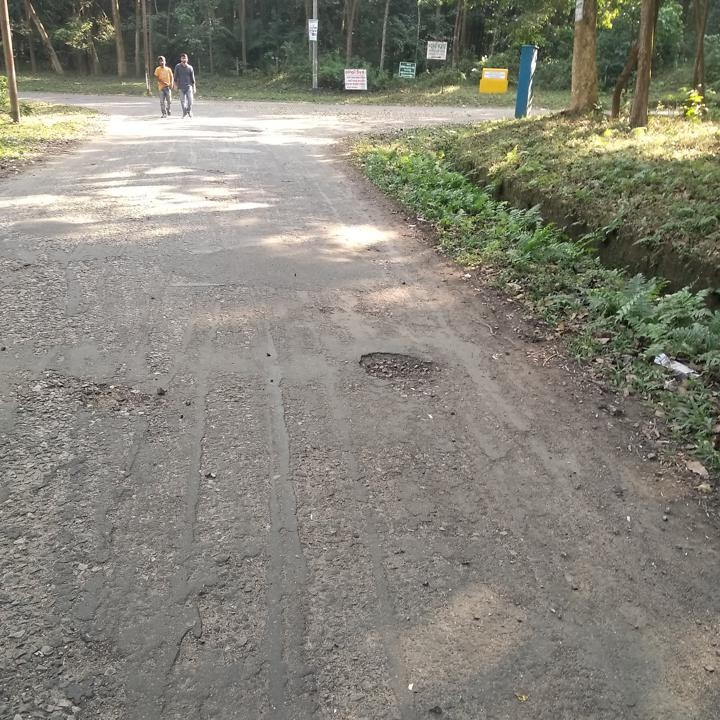pothole: (359, 346, 449, 400), (81, 378, 154, 417)
